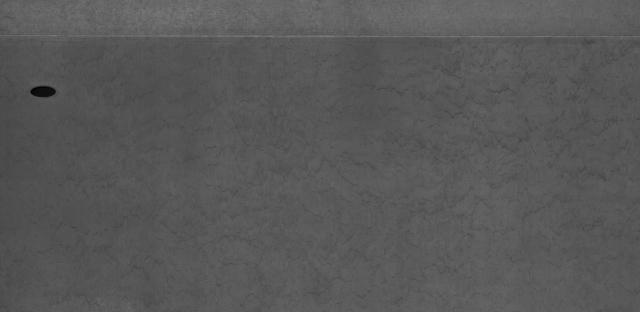punching_hole: (26, 78, 61, 101)
silk_spot: (83, 61, 627, 301)
